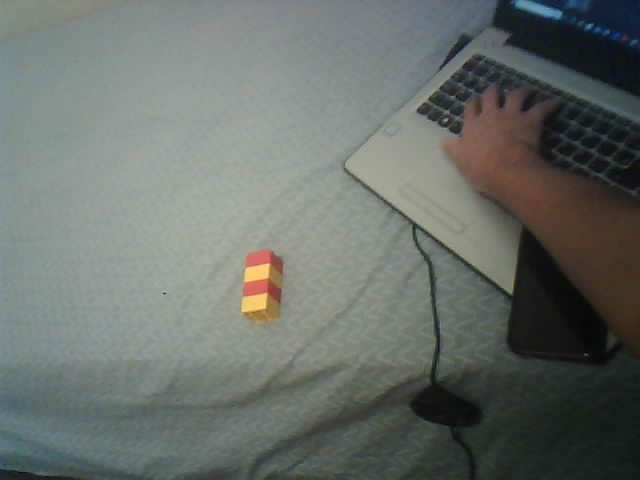lego: (240, 249, 283, 323)
